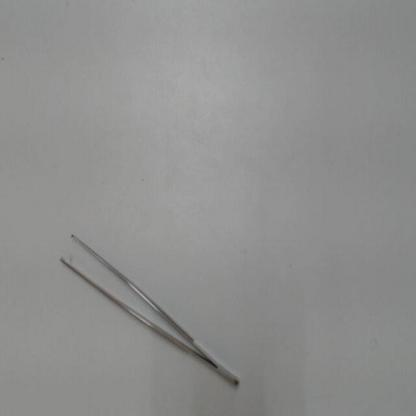Gillies Toothed Dissector: (48, 218, 248, 396)
